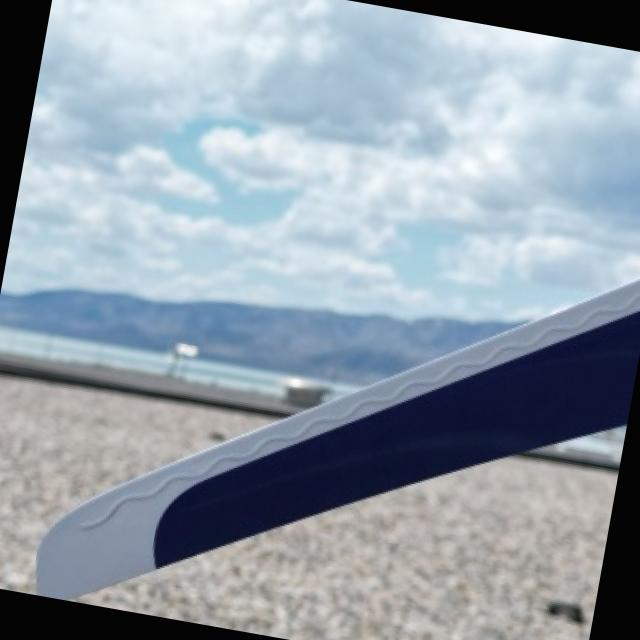healthy: (36, 279, 640, 598), (181, 302, 311, 365)
